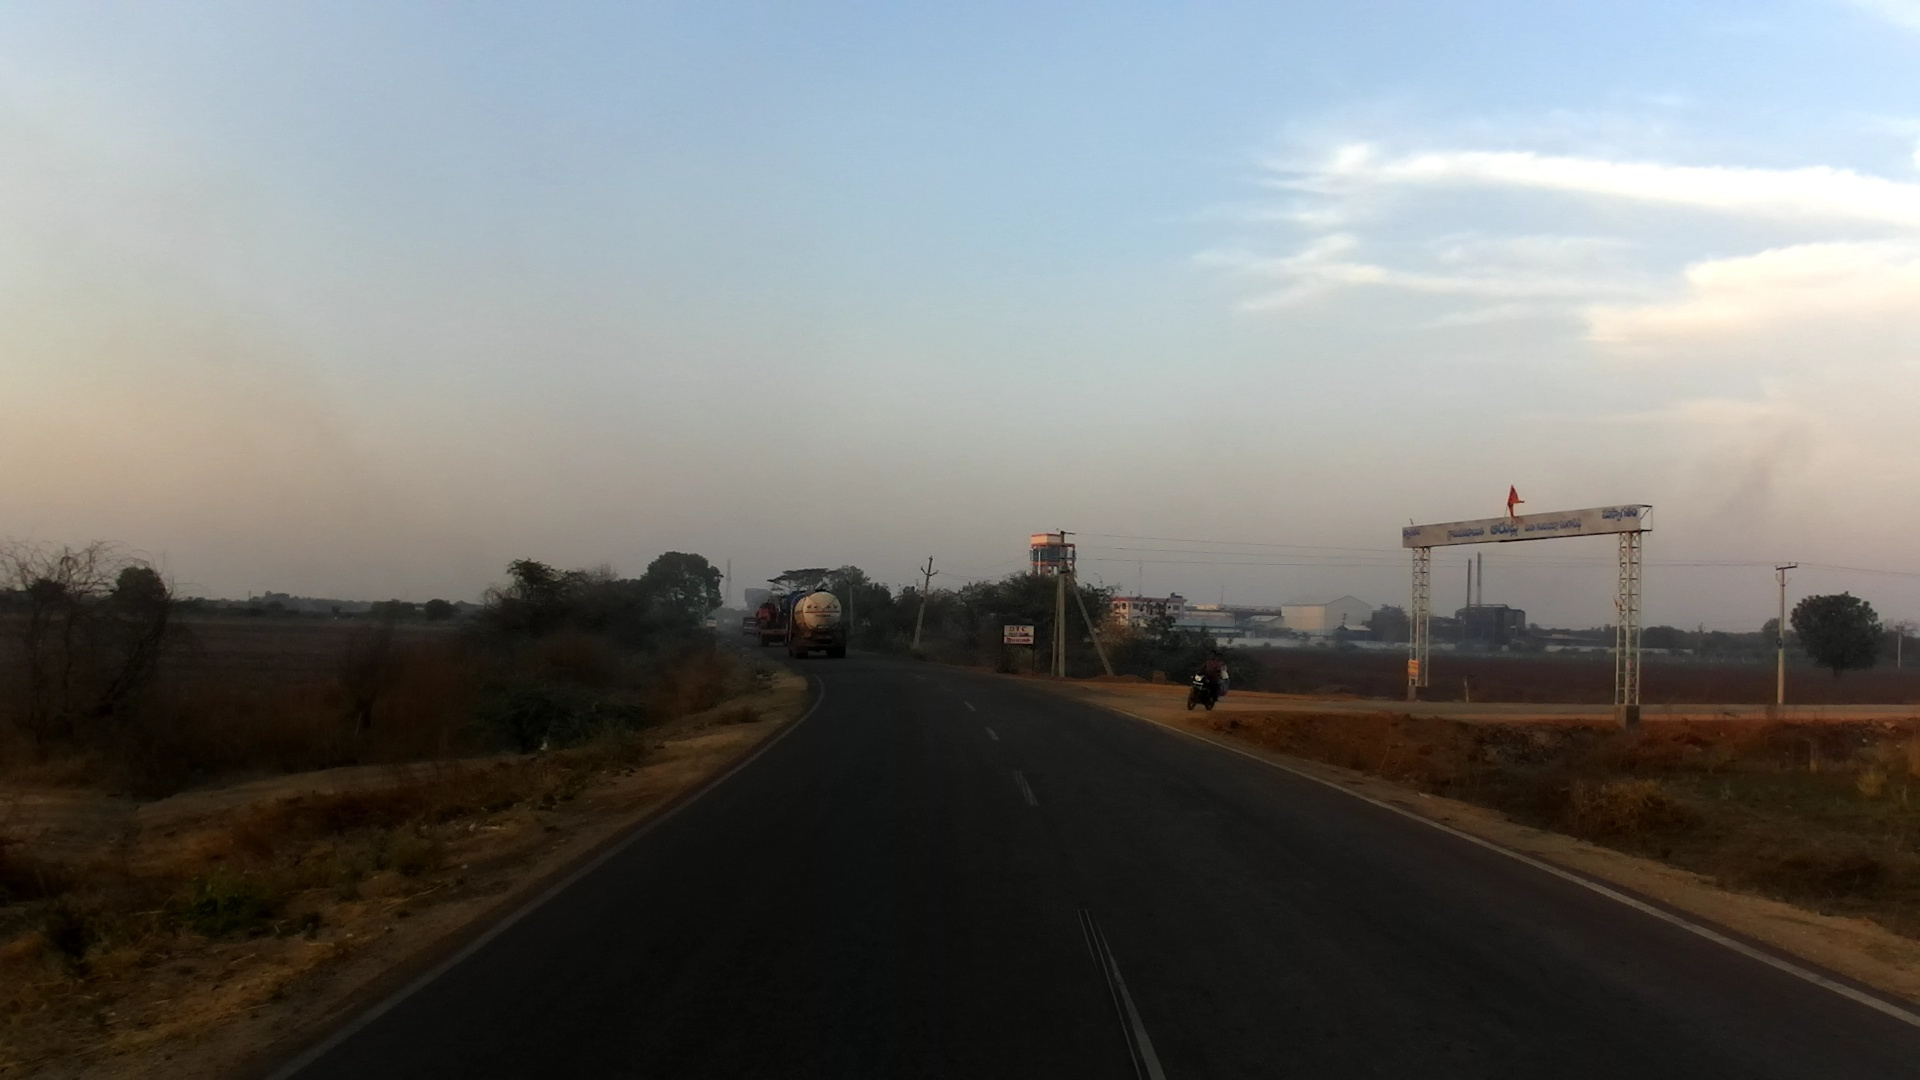car: (741, 616, 760, 638)
motorcycle: (1186, 669, 1223, 714)
rider: (1197, 653, 1222, 706)
truck: (790, 588, 845, 668), (752, 600, 785, 647)
